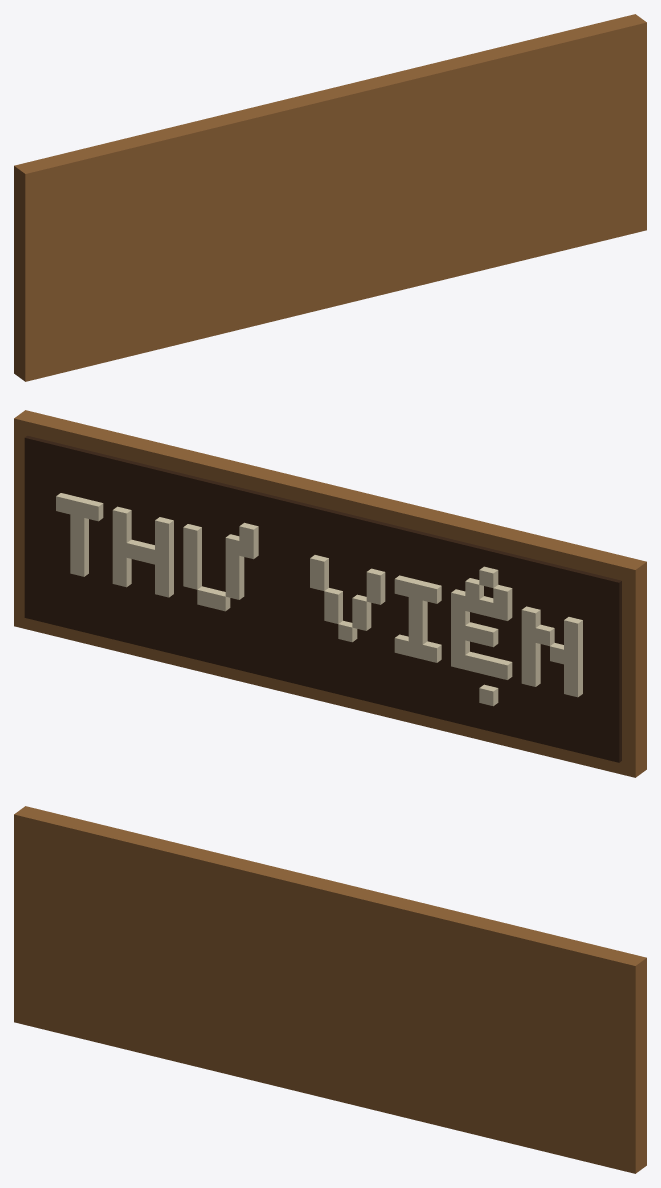
File: th-sign-thu-vien.glb
3 renders of one model, top to bottom at view 1: azimuth 30°, elevation 25°; view 2: azimuth 150°, elevation 25°; view 3: azimuth 330°, elevation 25°, orthographic.
Visible parts, largest first — view 1: box-prop; view 2: box-prop; view 3: box-prop.
Boxes of the visible parts, bbox=[...] form: box-prop: bbox=[14, 14, 646, 381]; box-prop: bbox=[14, 410, 646, 777]; box-prop: bbox=[14, 806, 646, 1173].
Size of the model in its own units: 3.75 by 1.2 by 0.2.
